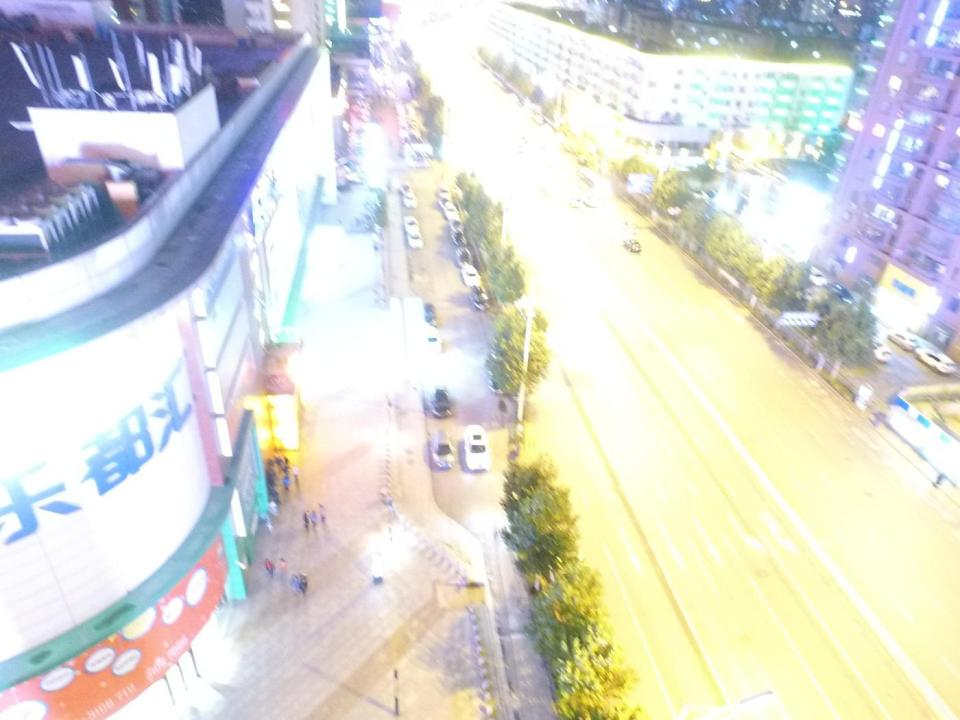bus: (576, 169, 610, 198)
car: (464, 423, 490, 470), (915, 347, 956, 373), (431, 429, 456, 469), (864, 335, 892, 363), (431, 385, 452, 418), (802, 262, 828, 287), (888, 332, 920, 352), (829, 282, 854, 306), (423, 326, 442, 356), (470, 286, 489, 311), (462, 265, 482, 287), (407, 228, 423, 249), (456, 248, 472, 268), (422, 302, 436, 324), (450, 228, 467, 246), (404, 215, 420, 234), (444, 202, 460, 220), (448, 218, 465, 233), (624, 238, 640, 253), (404, 192, 417, 208), (400, 182, 413, 196), (583, 196, 596, 207), (570, 196, 580, 207), (548, 158, 558, 168), (516, 145, 524, 152)
